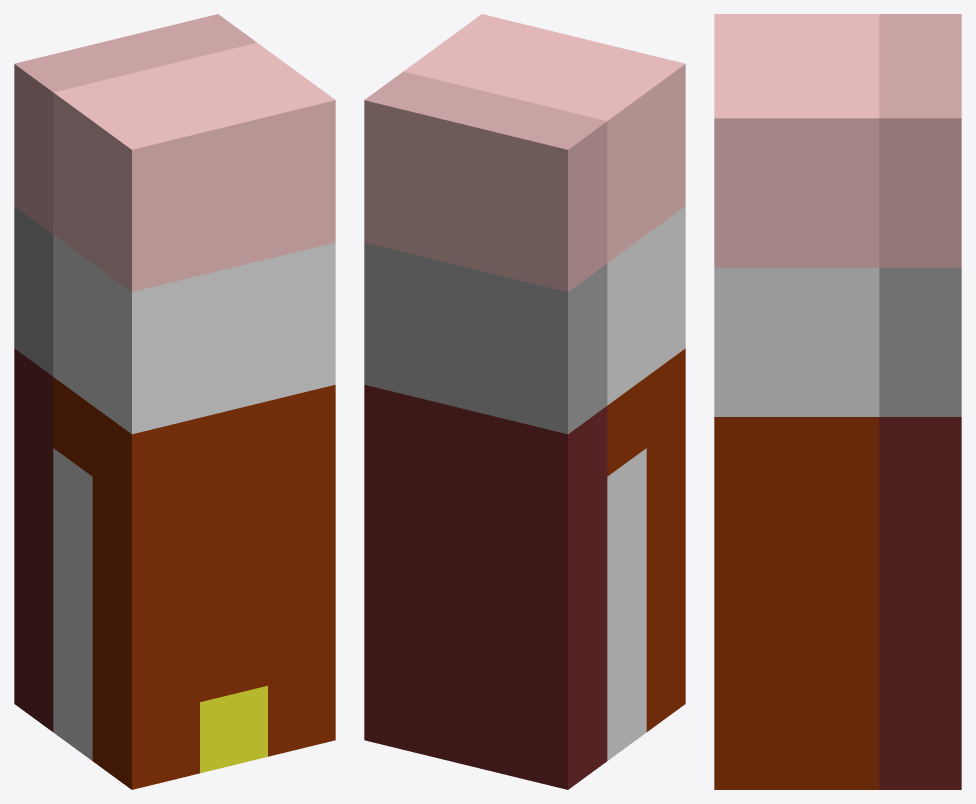
Rendered from pracGenny-7-Lleg2.obj.
3 renders of one model, left to right at view 1: azimuth 30°, elevation 25°; view 2: azimuth 150°, elevation 25°; view 3: azimuth 270°, elevation 25°, orthographic. The views are drawn at different scales.
Visible parts, largest first — view 1: Lleg2; view 2: Lleg2; view 3: Lleg2.
Part boxes in pixels (box(x1,y1,x2,y2)): Lleg2: box(14, 14, 335, 789); Lleg2: box(364, 14, 685, 789); Lleg2: box(714, 14, 961, 789).
Size of the model in its own units: 0.3 by 0.9 by 0.3.
1 material, 1 textured.
